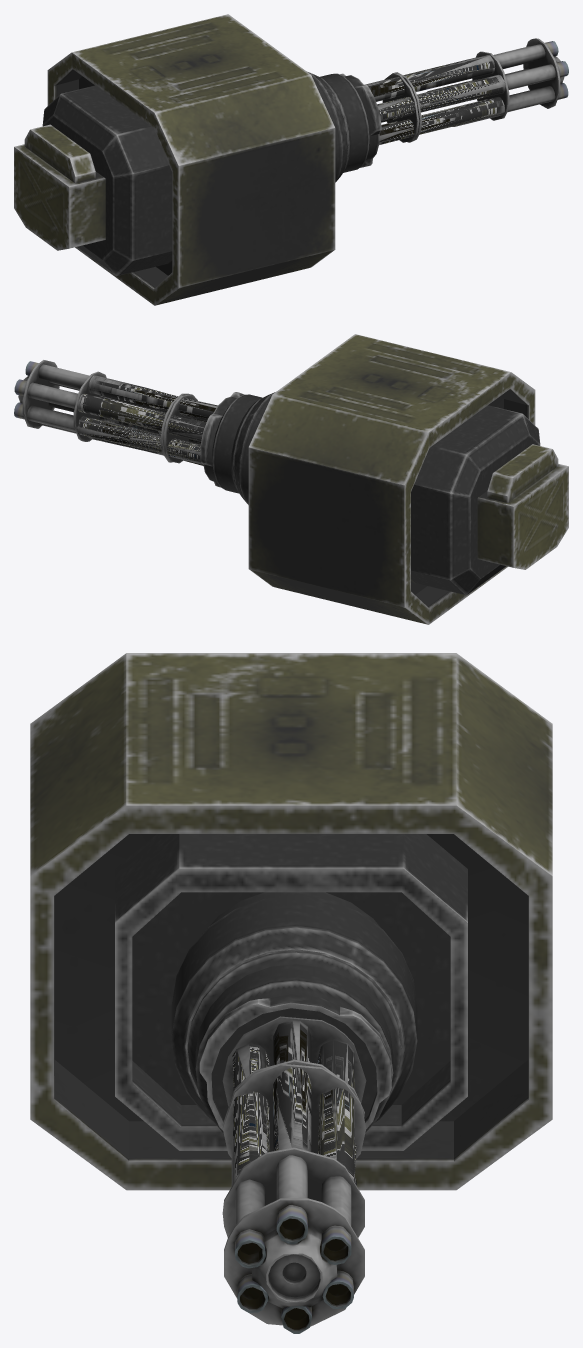
File: SM_Turret.FBX
3 renders of one model, top to bottom at view 1: azimuth 30°, elevation 25°; view 2: azimuth 150°, elevation 25°; view 3: azimuth 270°, elevation 25°, orthographic. The views are drawn at different scales.
Visible parts, largest first — view 1: SM_Turret; view 2: SM_Turret; view 3: SM_Turret.
Boxes of the visible parts, left/top/right/bottom form: SM_Turret: left=14, top=14, right=568, bottom=305; SM_Turret: left=14, top=334, right=568, bottom=624; SM_Turret: left=30, top=653, right=552, bottom=1333.
Size of what is drawn, in the model's own units: 142 by 62.3 by 50.62.
